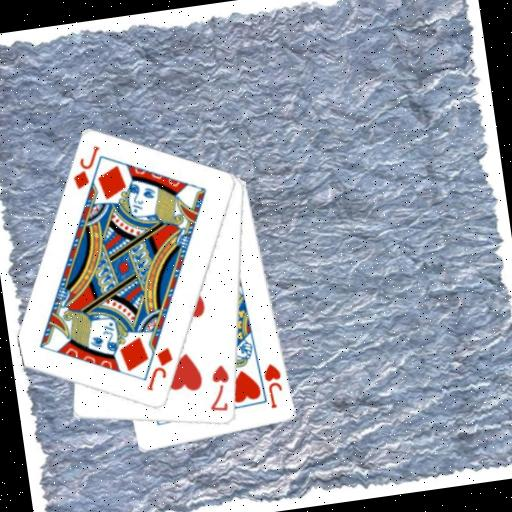7H: (202, 361, 236, 416)
JD: (138, 344, 179, 394), (66, 143, 107, 193)
JH: (260, 360, 288, 412)
